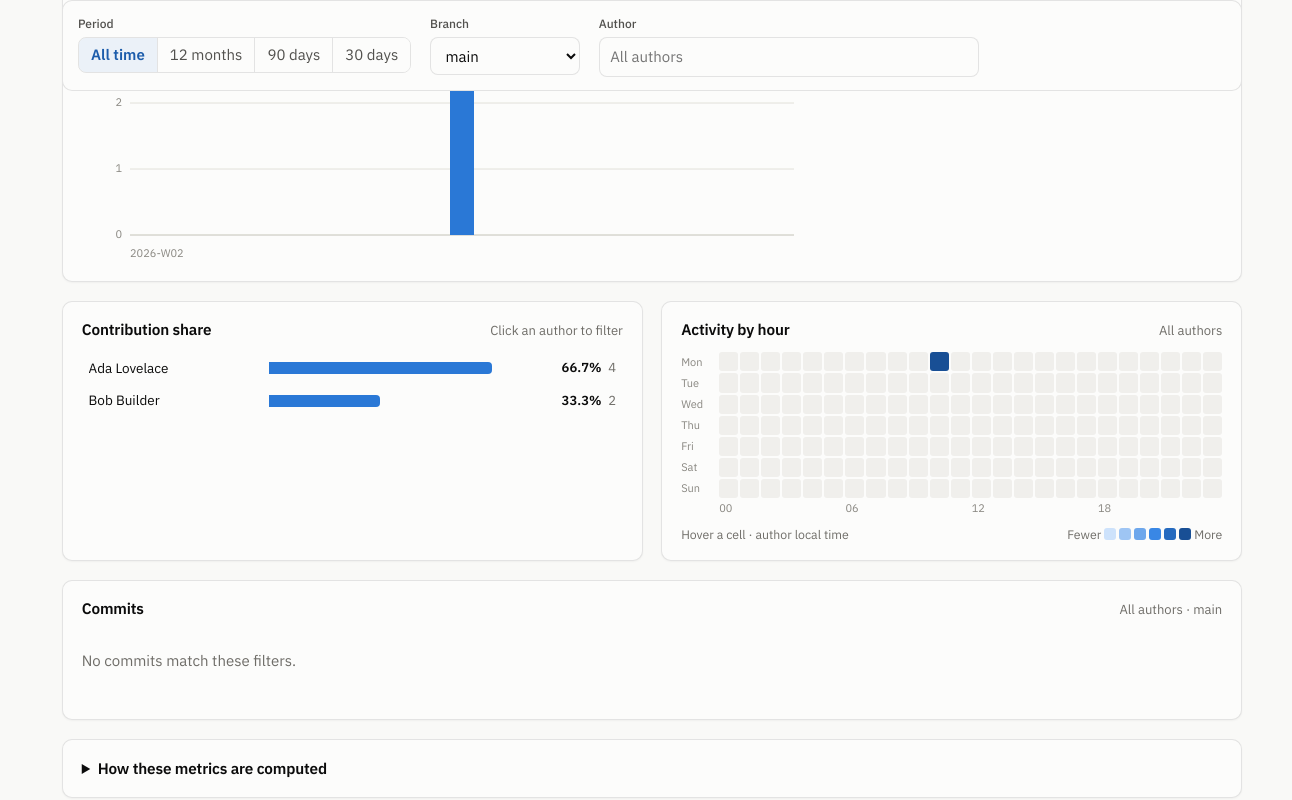
Scenario: Workspace › renders the dashboard and filters by author through the URL
(page scrolled)
Expected: the button "Ada Lovelace 66.7% 4" is shown, x1=82 y1=352 x2=623 y2=383
Click the button "Bob Builder 33.3% 2". click: x=352, y=401
box: x1=82 y1=385 x2=623 y2=416
(page scrolled)
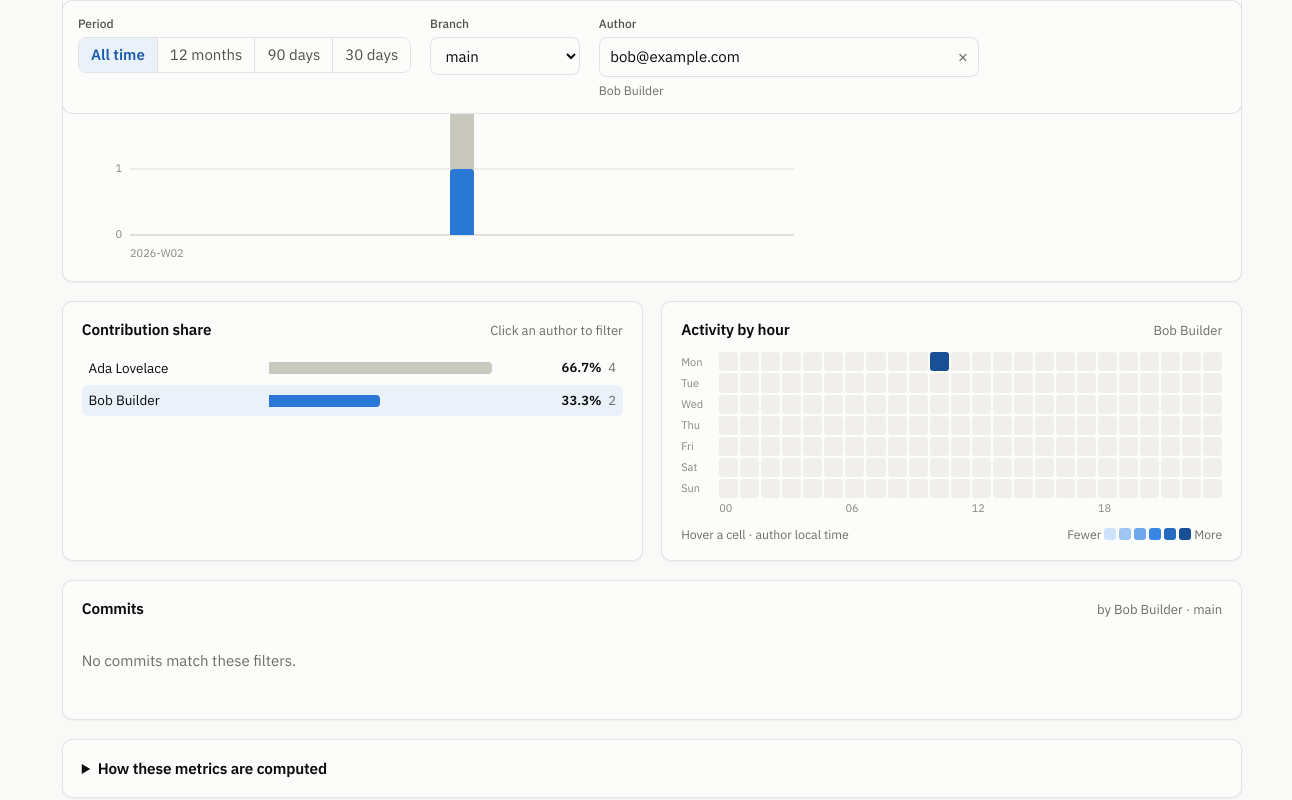
Click the button "90 days". click: x=293, y=55
box: x1=254 y1=38 x2=332 y2=72
(page scrolled)
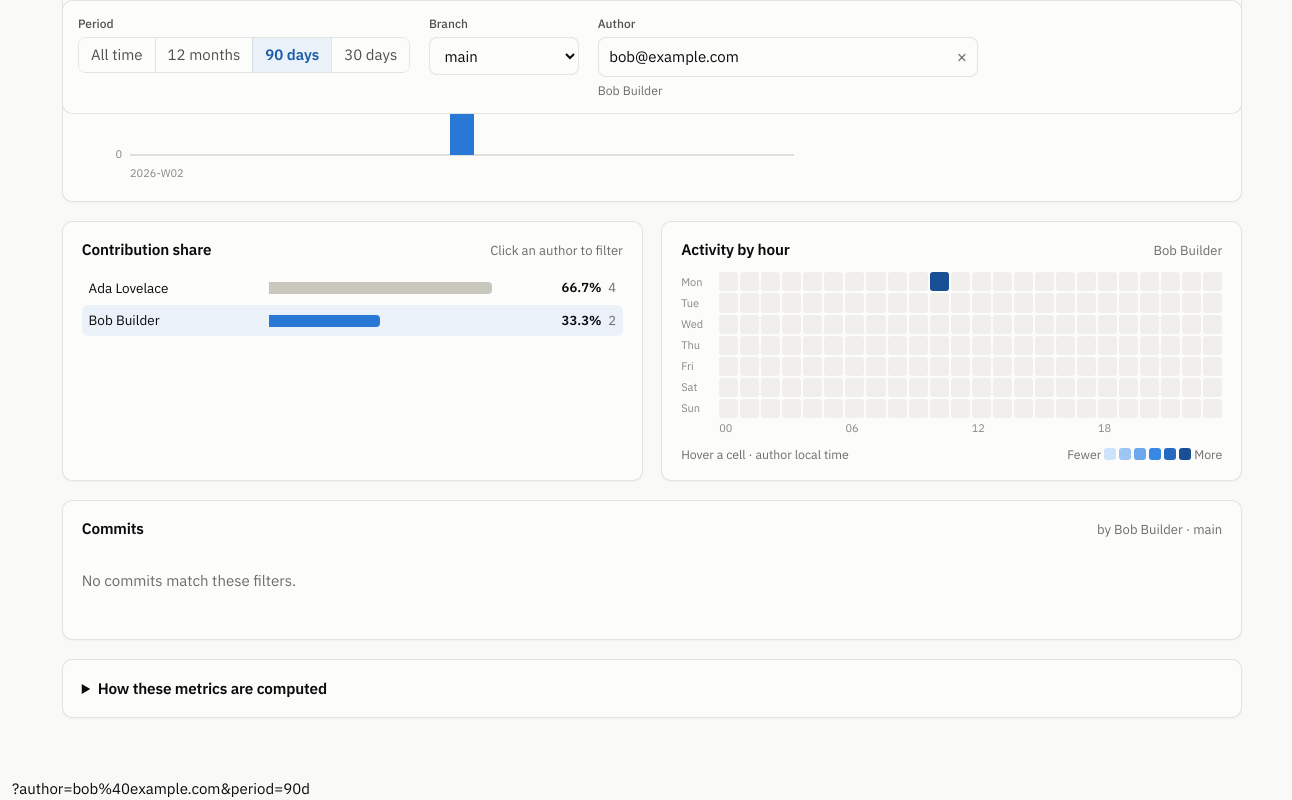
Expected: the text with test id "location" shows "period=90d", x1=12 y1=779 x2=310 y2=798
